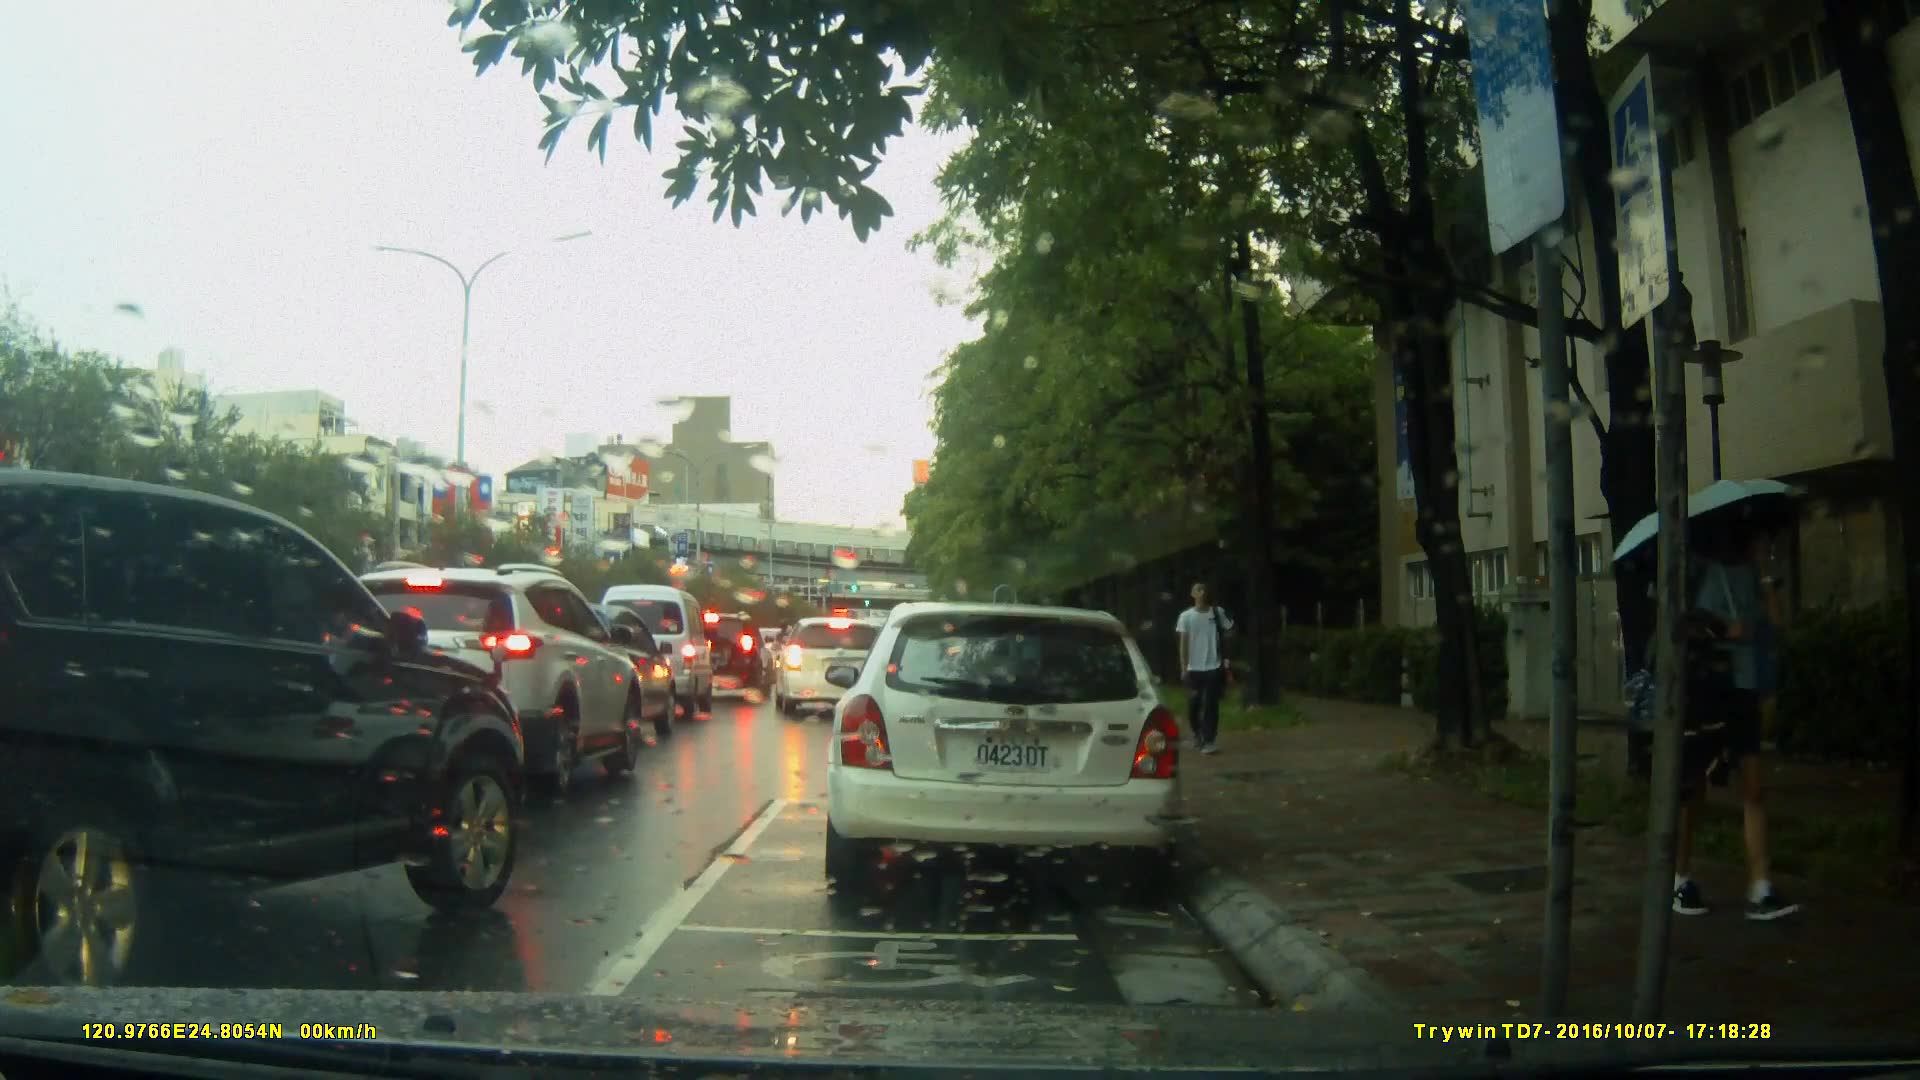pedestrian: (1687, 480, 1822, 955), (1160, 573, 1240, 770)
vehicle: (1, 466, 530, 987), (820, 602, 1188, 898), (320, 562, 653, 792), (512, 604, 682, 742), (591, 584, 717, 724), (773, 617, 897, 718), (676, 611, 772, 702)
